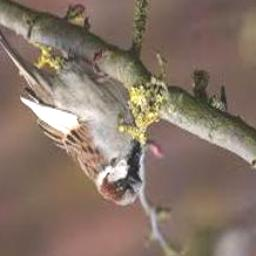Sparrow: (0, 25, 142, 207)
